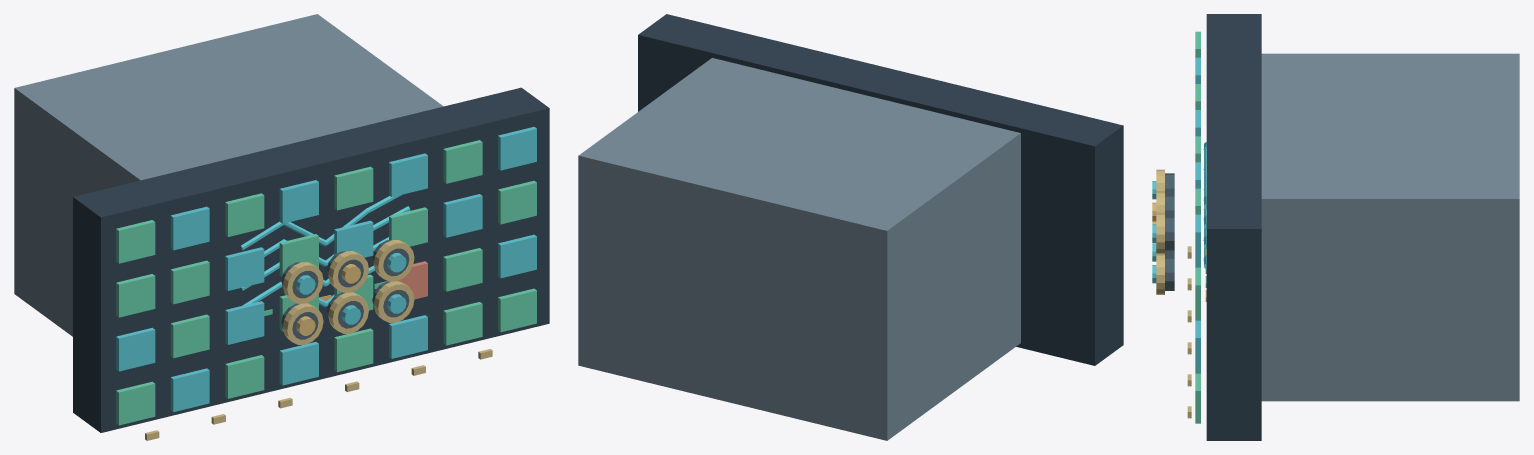
File: 19_L81_ECCSyndromeDetectionEngine.glb
The picture shows the model from 3 angles, left to right: view 1: azimuth 30°, elevation 25°; view 2: azimuth 150°, elevation 25°; view 3: azimuth 270°, elevation 25°; orthographic projection. The views are drawn at different scales.
Visible parts, largest first — view 1: ECCSyndromeDetectionEngine_Node_0051, ECCSyndromeDetectionEngine_Node_0000, ECCSyndromeDetectionEngine_Node_0058, ECCSyndromeDetectionEngine_Node_0062, ECCSyndromeDetectionEngine_Node_0052, ECCSyndromeDetectionEngine_Node_0069, ECCSyndromeDetectionEngine_Node_0076, ECCSyndromeDetectionEngine_Node_0079, ECCSyndromeDetectionEngine_Node_0082, ECCSyndromeDetectionEngine_Node_0060, ECCSyndromeDetectionEngine_Node_0061, ECCSyndromeDetectionEngine_Node_0066 (+26 smaller); view 2: ECCSyndromeDetectionEngine_Node_0000, ECCSyndromeDetectionEngine_Node_0051; view 3: ECCSyndromeDetectionEngine_Node_0000, ECCSyndromeDetectionEngine_Node_0051, ECCSyndromeDetectionEngine_Node_0106, ECCSyndromeDetectionEngine_Node_0097.
Part boxes in pixels (x1=…): ECCSyndromeDetectionEngine_Node_0051: x1=73, y1=87, x2=549, y2=432; ECCSyndromeDetectionEngine_Node_0000: x1=14, y1=14, x2=443, y2=336; ECCSyndromeDetectionEngine_Node_0058: x1=443, y1=302, x2=482, y2=345; ECCSyndromeDetectionEngine_Node_0062: x1=225, y1=301, x2=264, y2=344; ECCSyndromeDetectionEngine_Node_0052: x1=116, y1=381, x2=155, y2=425; ECCSyndromeDetectionEngine_Node_0069: x1=170, y1=260, x2=209, y2=304; ECCSyndromeDetectionEngine_Node_0076: x1=116, y1=220, x2=155, y2=263; ECCSyndromeDetectionEngine_Node_0079: x1=279, y1=180, x2=318, y2=223; ECCSyndromeDetectionEngine_Node_0082: x1=443, y1=140, x2=482, y2=183; ECCSyndromeDetectionEngine_Node_0060: x1=116, y1=327, x2=155, y2=371; ECCSyndromeDetectionEngine_Node_0061: x1=170, y1=314, x2=209, y2=358; ECCSyndromeDetectionEngine_Node_0066: x1=443, y1=248, x2=482, y2=291; ECCSyndromeDetectionEngine_Node_0000: x1=578, y1=58, x2=1020, y2=440; ECCSyndromeDetectionEngine_Node_0051: x1=638, y1=14, x2=1123, y2=365; ECCSyndromeDetectionEngine_Node_0000: x1=1261, y1=53, x2=1519, y2=401; ECCSyndromeDetectionEngine_Node_0051: x1=1206, y1=14, x2=1261, y2=440; ECCSyndromeDetectionEngine_Node_0106: x1=1156, y1=213, x2=1164, y2=254; ECCSyndromeDetectionEngine_Node_0097: x1=1156, y1=254, x2=1164, y2=294.
Bounding box in the file's own units: 1.48 × 0.71 × 1.07.
